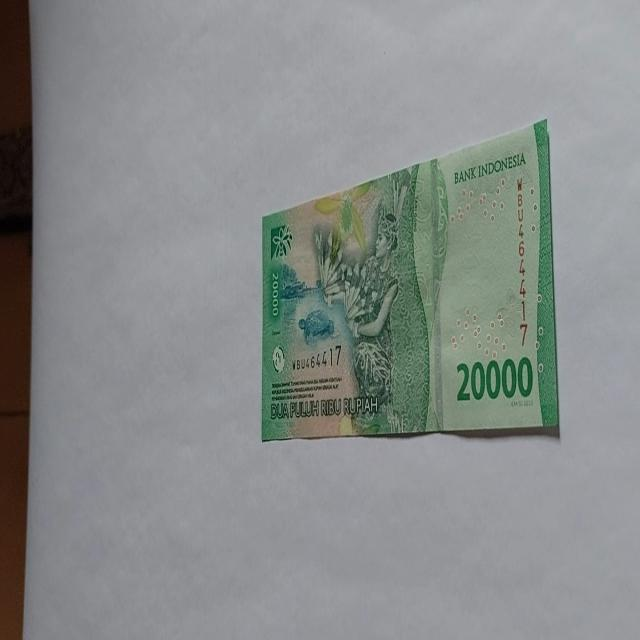dua puluh ribu rupiah: (260, 117, 560, 443), (311, 157, 449, 436)
